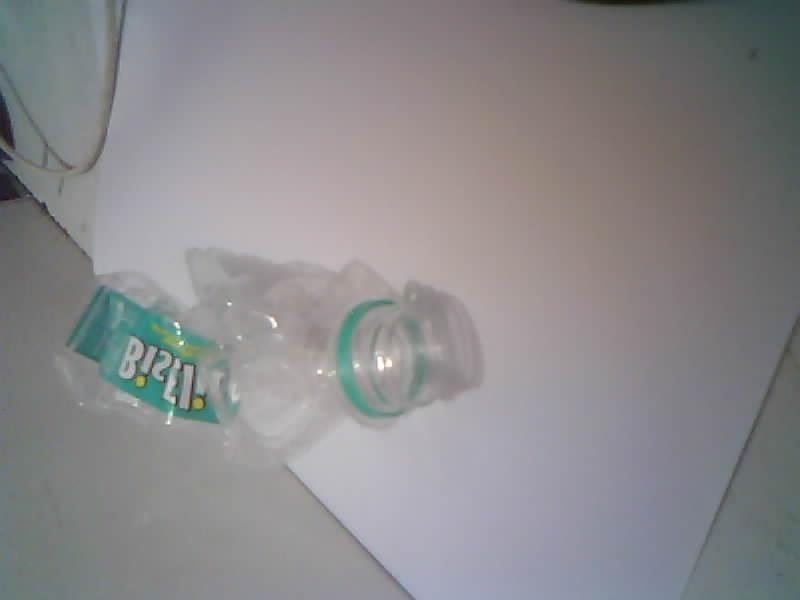non-biodegradable: (59, 249, 482, 464), (279, 360, 279, 361)
